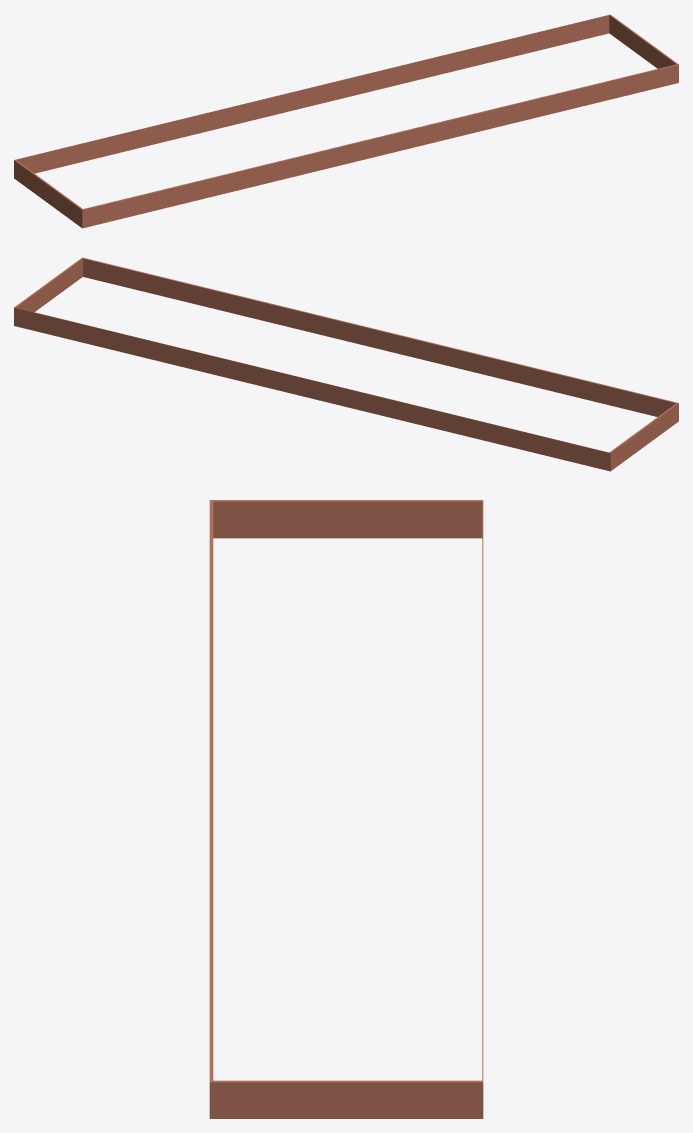
The model's file is walls.fbx.
3 renders of one model, top to bottom at view 1: azimuth 30°, elevation 25°; view 2: azimuth 150°, elevation 25°; view 3: azimuth 270°, elevation 25°, orthographic. The views are drawn at different scales.
Parts seen in each view (by area): view 1: Cube.001; view 2: Cube.001; view 3: Cube.001.
Part boxes in pixels (x1=…): Cube.001: x1=14, y1=14, x2=678, y2=228; Cube.001: x1=14, y1=257, x2=678, y2=471; Cube.001: x1=209, y1=500, x2=483, y2=1118.
Size of the model in its own units: 35354 by 1040 by 7025.
